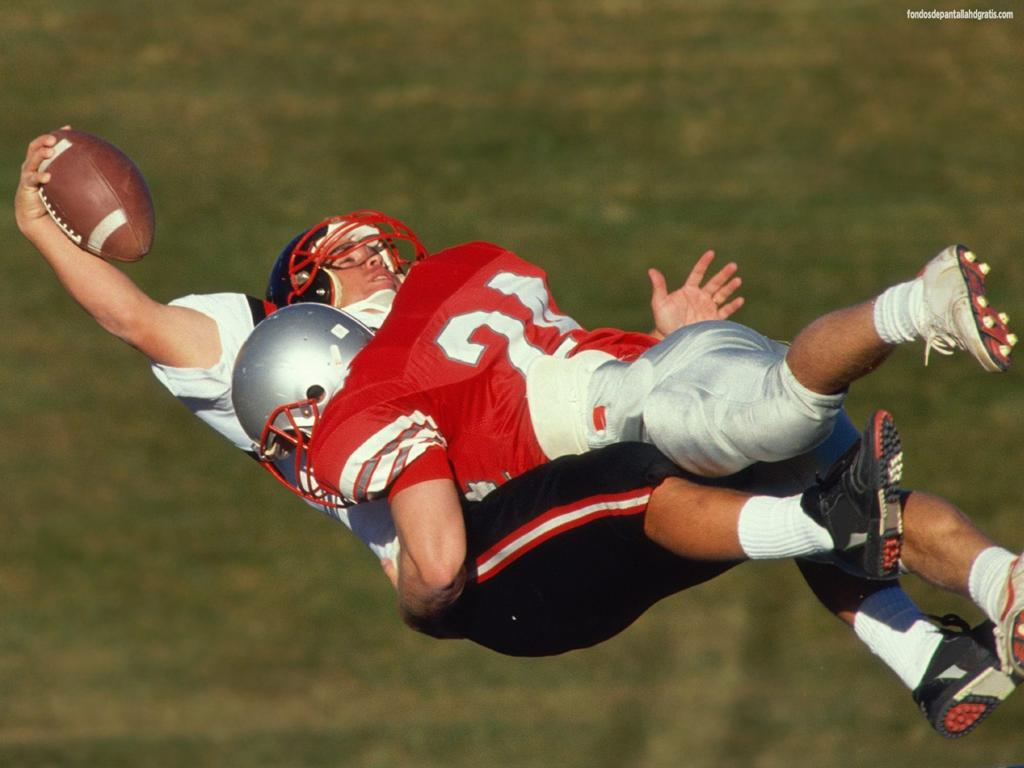face: (323, 227, 397, 301)
